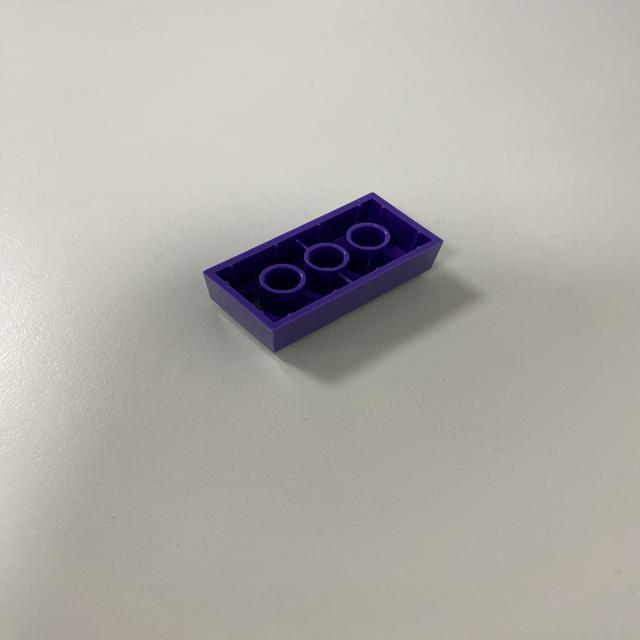C4x2x1: (205, 189, 440, 351)
